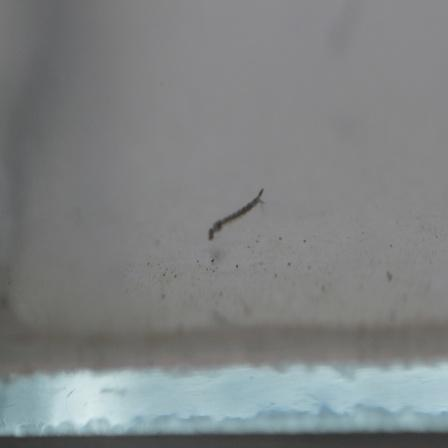Jentik-Nyamuk: (203, 182, 266, 245)
